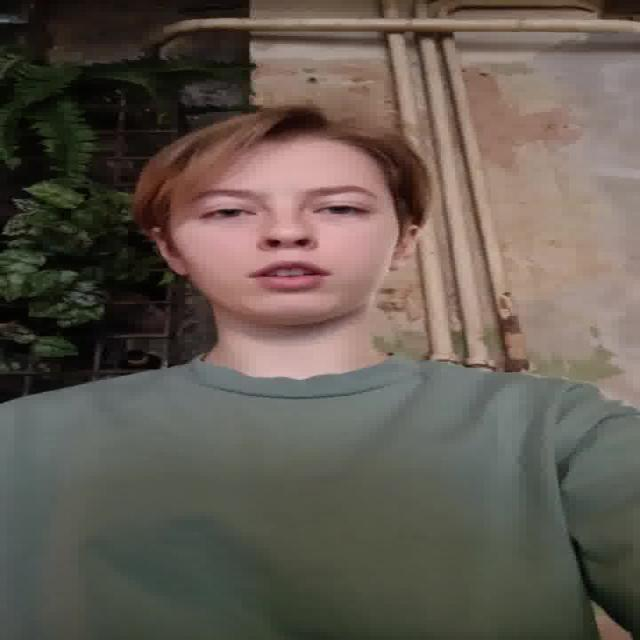earlobe: (169, 257, 190, 276), (388, 257, 410, 272)
eye: (314, 204, 374, 218), (204, 207, 255, 221)
nose: (259, 245, 314, 262)
wholeear: (148, 228, 190, 276), (387, 225, 422, 272)
